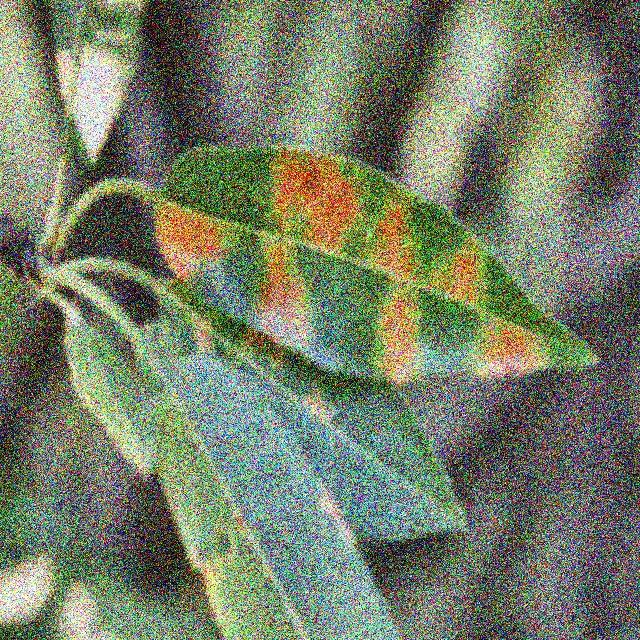shot_hole: (133, 123, 610, 380), (110, 398, 381, 640)
